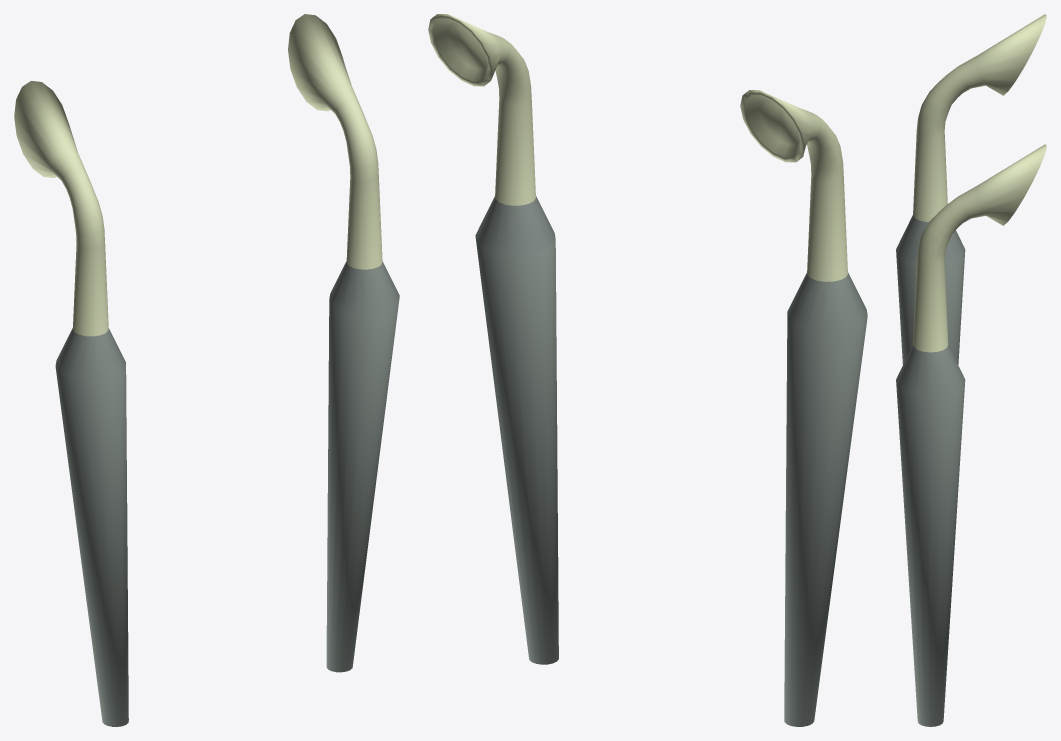
The model's file is Egzoz_Teruck_Modified.fbx.
The picture shows the model from 3 angles, left to right: view 1: azimuth 30°, elevation 25°; view 2: azimuth 150°, elevation 25°; view 3: azimuth 270°, elevation 25°; orthographic projection. The views are drawn at different scales.
Visible parts, largest first — view 1: Egzoz_Truck_Modified; view 2: Egzoz_Truck_Modified; view 3: Egzoz_Truck_Modified.
Boxes of the visible parts, box(x1,y1,x2,y2) form: Egzoz_Truck_Modified: box(14, 14, 399, 726); Egzoz_Truck_Modified: box(428, 14, 867, 726); Egzoz_Truck_Modified: box(896, 14, 1046, 726).
Size of the model in its own units: 1.64 by 2.82 by 0.658.
